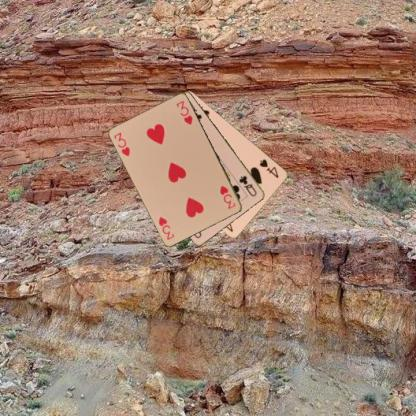3h: (112, 129, 132, 158), (217, 183, 237, 210)
4s: (257, 157, 280, 179)
Qc: (236, 172, 258, 198)
